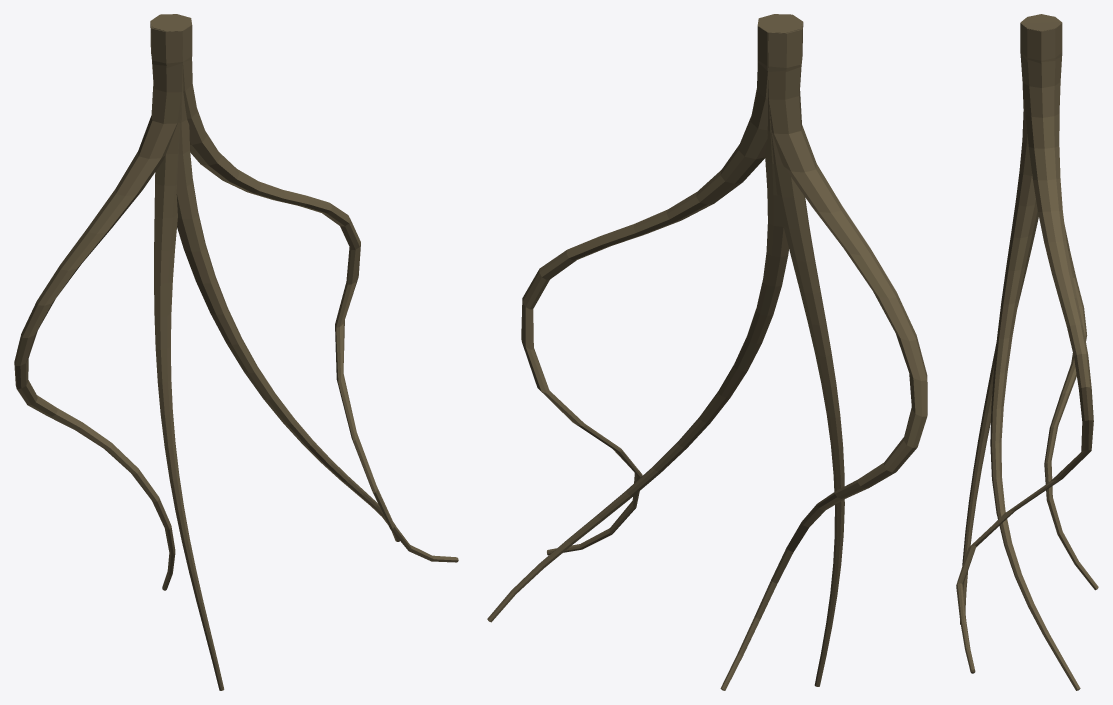
The model's file is RootBundle.5.fbx.
3 renders of one model, left to right at view 1: azimuth 30°, elevation 25°; view 2: azimuth 150°, elevation 25°; view 3: azimuth 270°, elevation 25°, orthographic. The views are drawn at different scales.
Visible parts, largest first — view 1: RootBundle.5; view 2: RootBundle.5; view 3: RootBundle.5.
Boxes of the visible parts, box(x1,y1,x2,y2) form: RootBundle.5: box(14, 14, 458, 690); RootBundle.5: box(487, 14, 927, 690); RootBundle.5: box(956, 14, 1098, 690).
Bounding box in the file's own units: 267 × 412 × 89.09.
